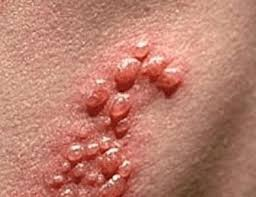herpes: (55, 34, 195, 184)
